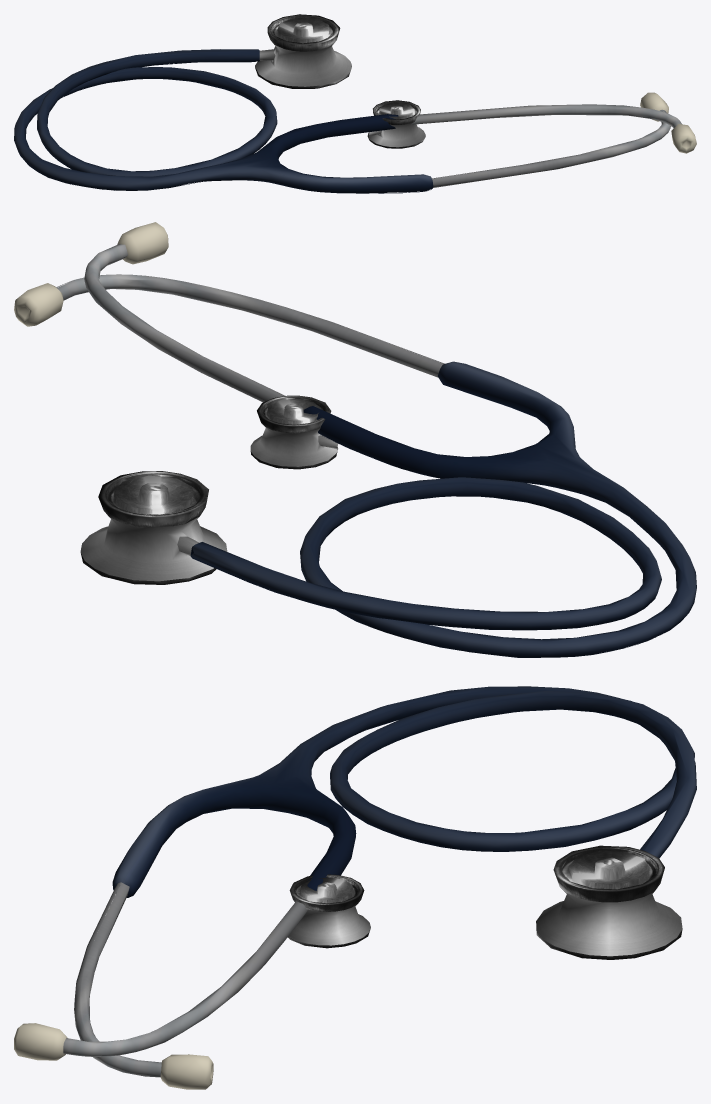
File: AcusticStethoscope.glb
The picture shows the model from 3 angles, top to bottom: view 1: azimuth 30°, elevation 25°; view 2: azimuth 150°, elevation 25°; view 3: azimuth 270°, elevation 25°; orthographic projection. The views are drawn at different scales.
Parts seen in each view (by area): view 1: acusticStethoscope, acusticStethoscopeSensor; view 2: acusticStethoscope, acusticStethoscopeSensor; view 3: acusticStethoscope, acusticStethoscopeSensor.
Part boxes in pixels (x1,y1,x2,y2): acusticStethoscope: (14, 14, 696, 193); acusticStethoscopeSensor: (367, 100, 425, 148); acusticStethoscope: (14, 222, 696, 657); acusticStethoscopeSensor: (250, 395, 338, 469); acusticStethoscope: (14, 686, 696, 1089); acusticStethoscopeSensor: (288, 874, 370, 948).
Size of the model in its own units: 0.4031 by 0.0314 by 0.2934.
Materials: 1 (1 with a texture image).
